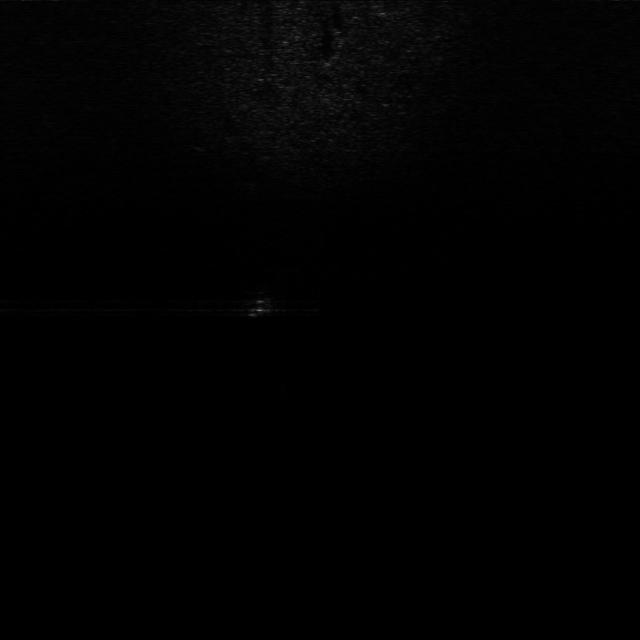human body: (238, 289, 284, 320)
